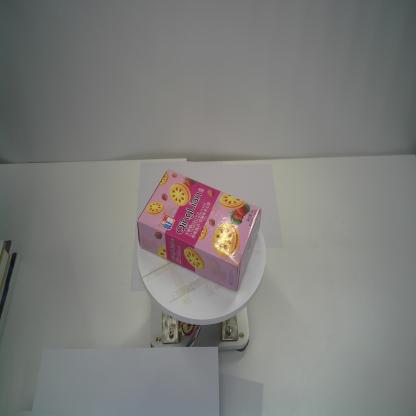Dessert: (133, 166, 263, 291)
